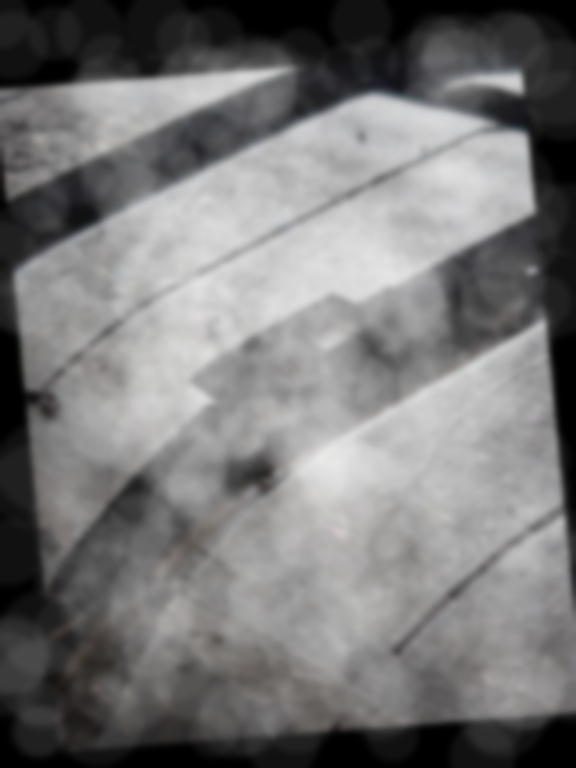temoin:95: (171, 271, 423, 497)
